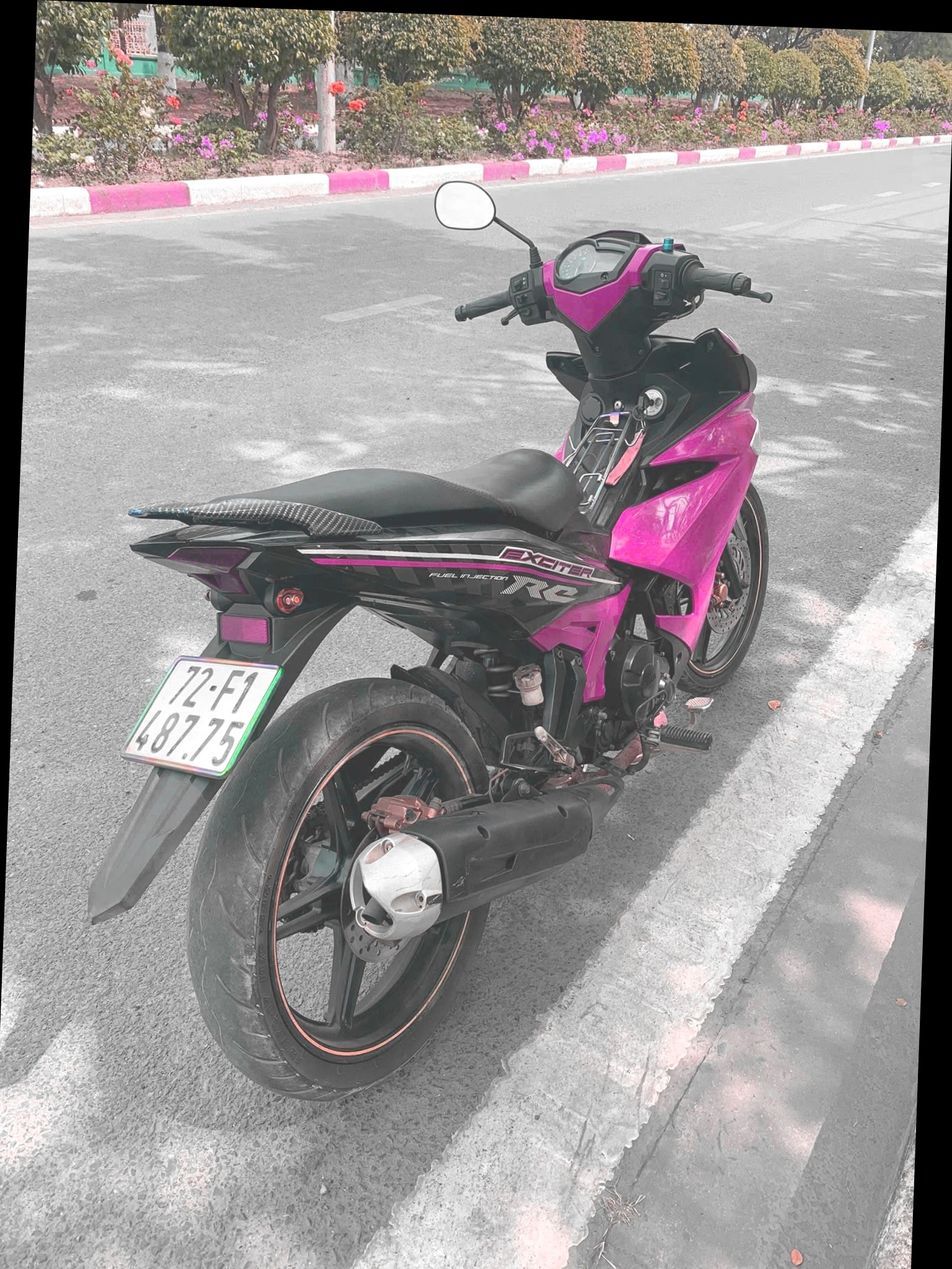Bien-so: (120, 654, 276, 782)
